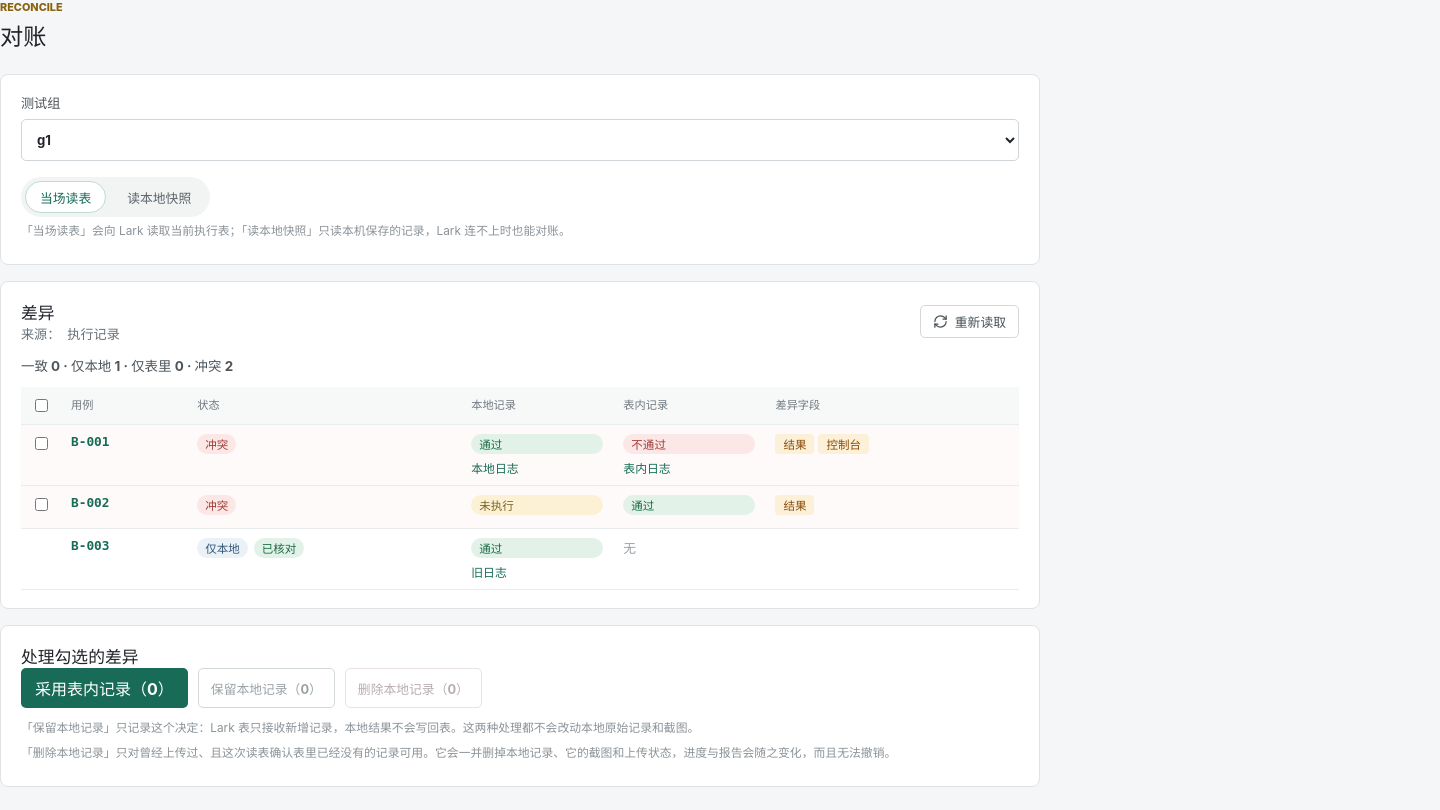
Test case: says that adopting appends a new record instead of overwriting
This screenshot has width=1440, height=810.
Click the checkbox named "选择 B-001" at [42, 444], box 35,437 -> 48,450
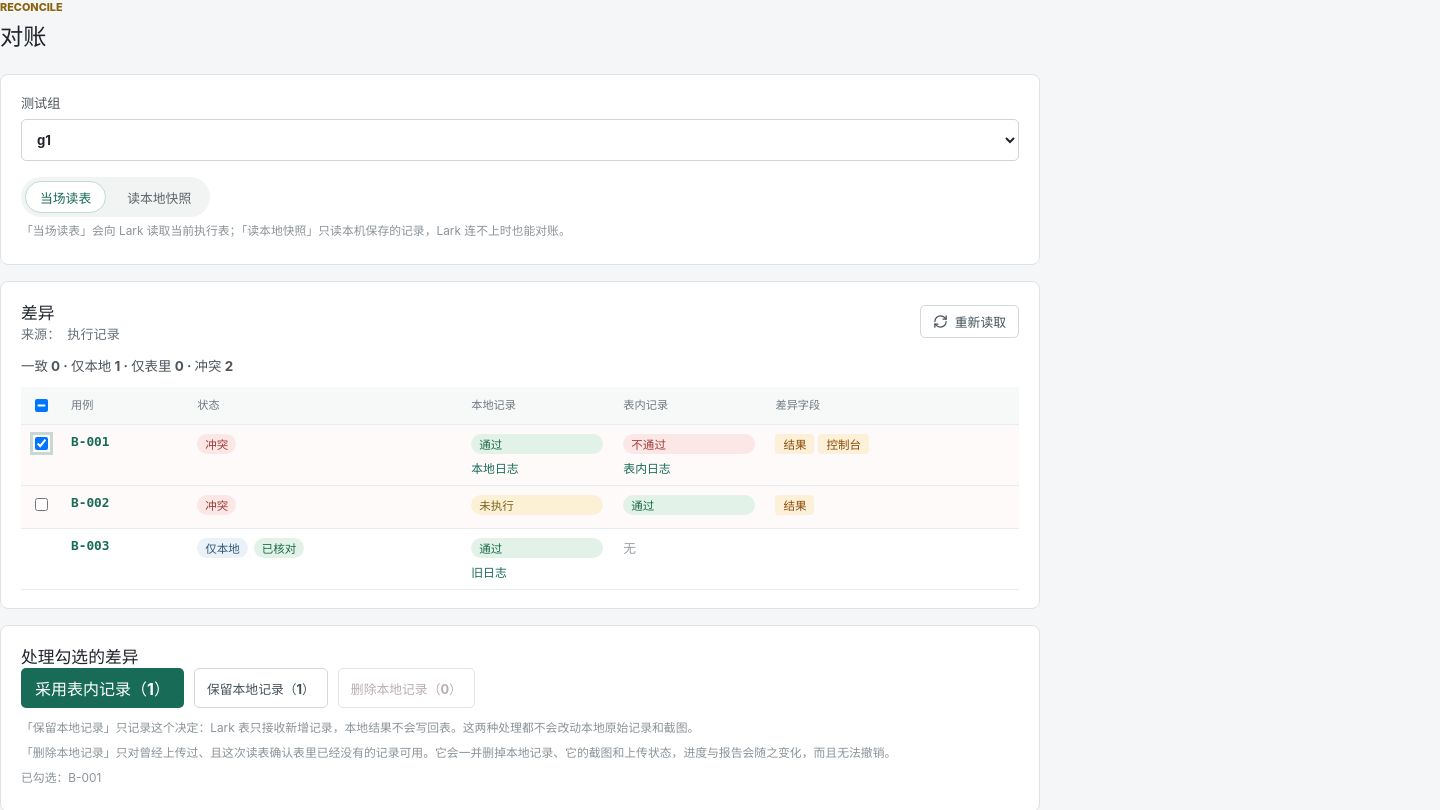
Click the button "采用表内记录（1）" at [102, 688], box 21,668 -> 184,708
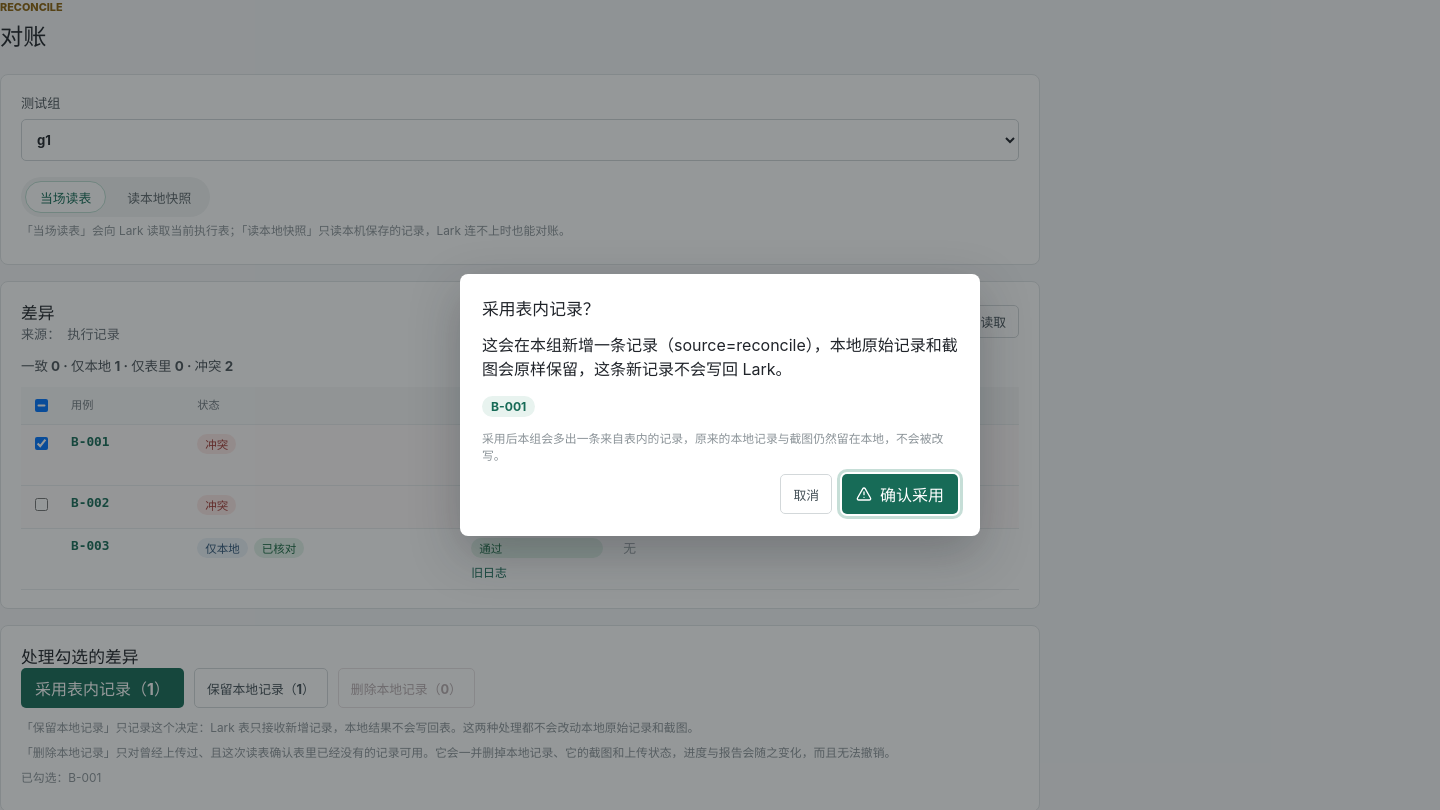
expect the dialog shows "新增一条": met, box 482,335 -> 958,379
expect the dialog shows "本地原始记录和截图会原样保留": met, box 482,335 -> 958,379
